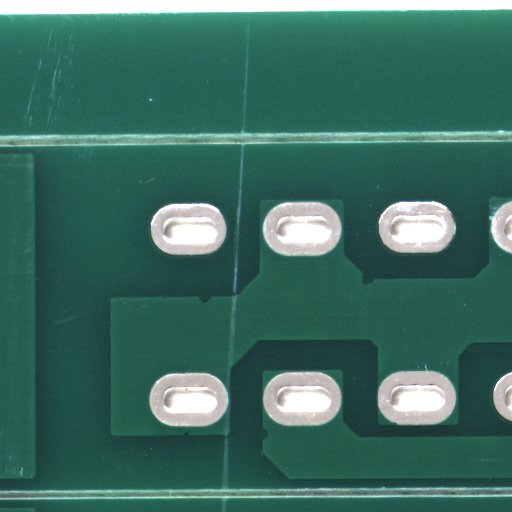Mouse_bite: (367, 279, 381, 292), (265, 436, 272, 450), (205, 299, 218, 306)
